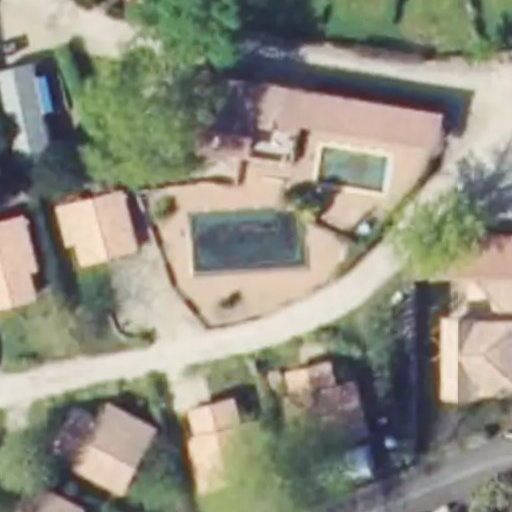pool: (193, 213, 305, 265), (320, 147, 385, 190)
